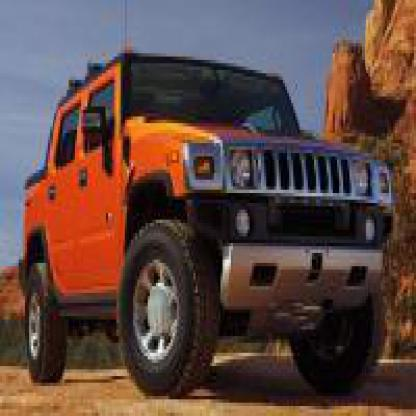Vehicle: (16, 37, 404, 406)
